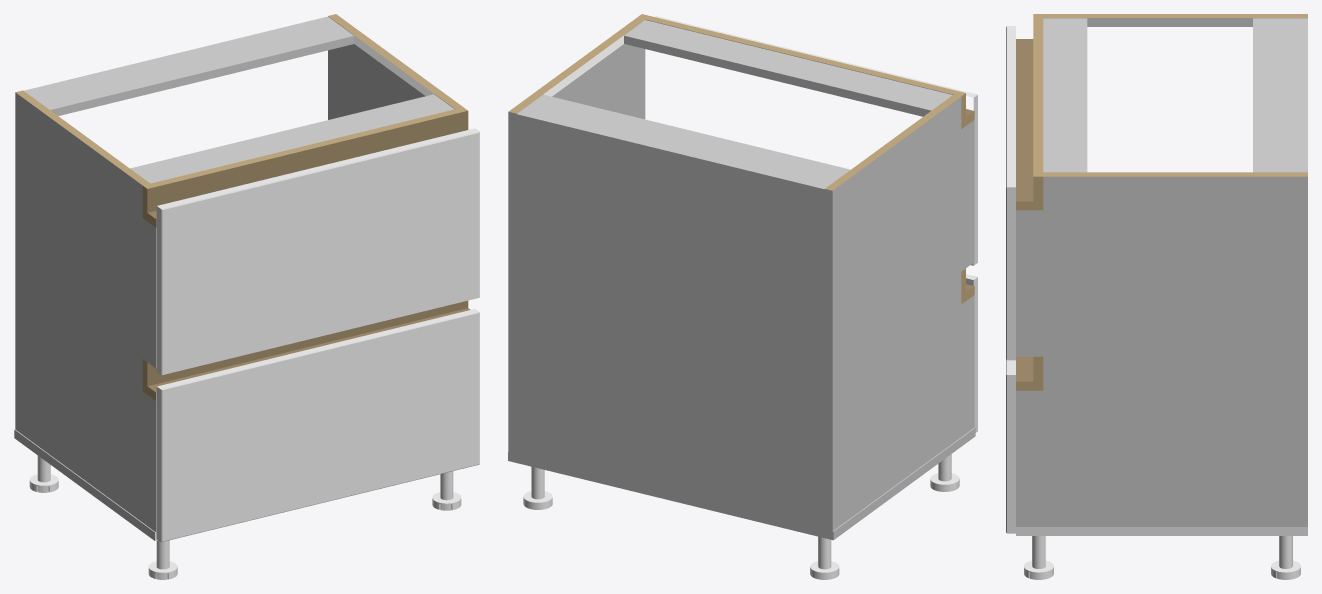
The model's file is fioke_70cm.glb.
The picture shows the model from 3 angles, left to right: view 1: azimuth 30°, elevation 25°; view 2: azimuth 150°, elevation 25°; view 3: azimuth 270°, elevation 25°; orthographic projection. The views are drawn at different scales.
Visible parts, largest first — view 1: Model; view 2: Model; view 3: Model.
Part boxes in pixels (x1,y1,x2,y2): Model: (14,14,479,579); Model: (508,14,977,579); Model: (1006,14,1307,579).
Size of the model in its own units: 704 by 817 by 550.
